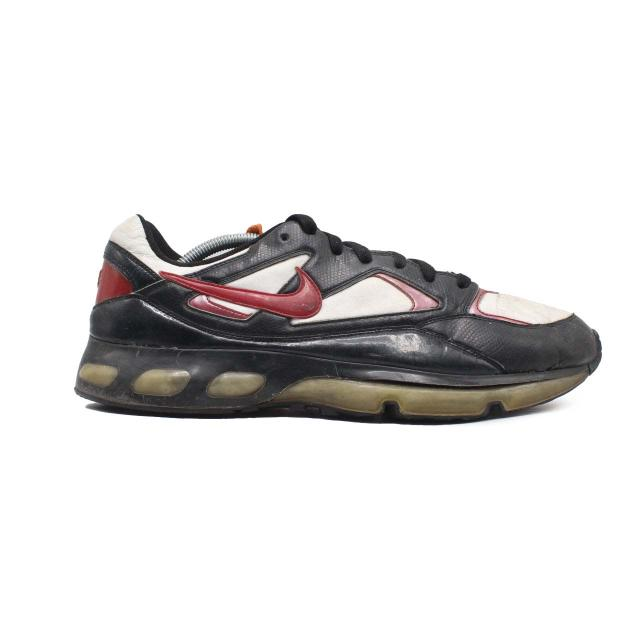heel: (90, 216, 204, 351)
midsole: (74, 331, 602, 424)
uppersole: (190, 214, 598, 386)
